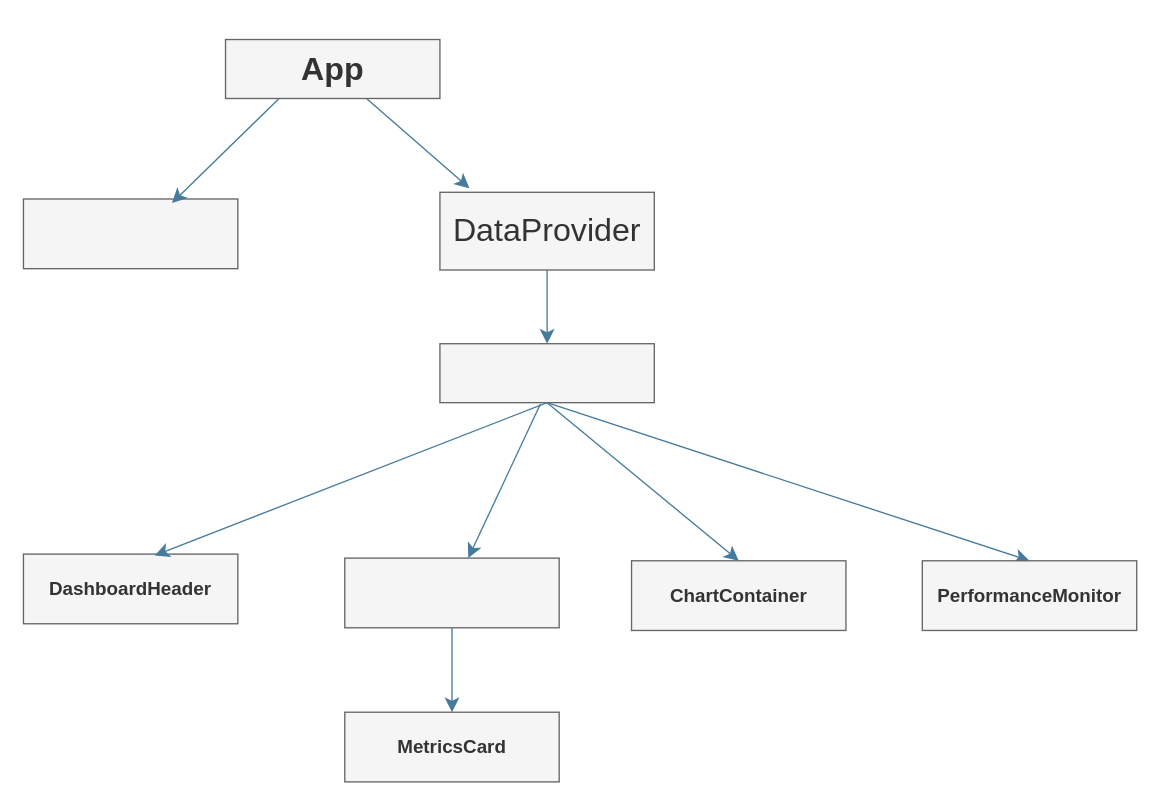
Some shapes in this 1160 by 805 pixel diagram are drawn without their labels. The shapes that lost their labels are listed below. From the top down, each one's centre as x and y in pixels, then its label:
point (130, 233): ErrorBoundary
point (546, 372): Dashboard
point (451, 592): MetricsGrid
